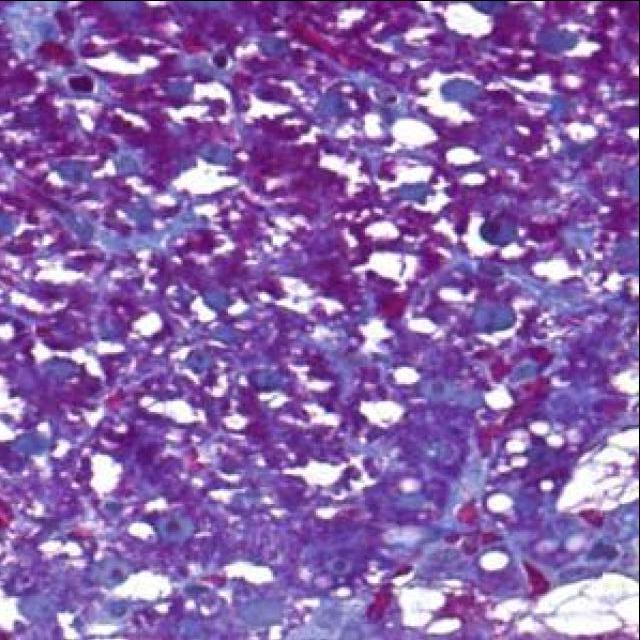ballooning: (557, 428, 639, 512), (536, 572, 639, 635), (396, 585, 461, 634)
